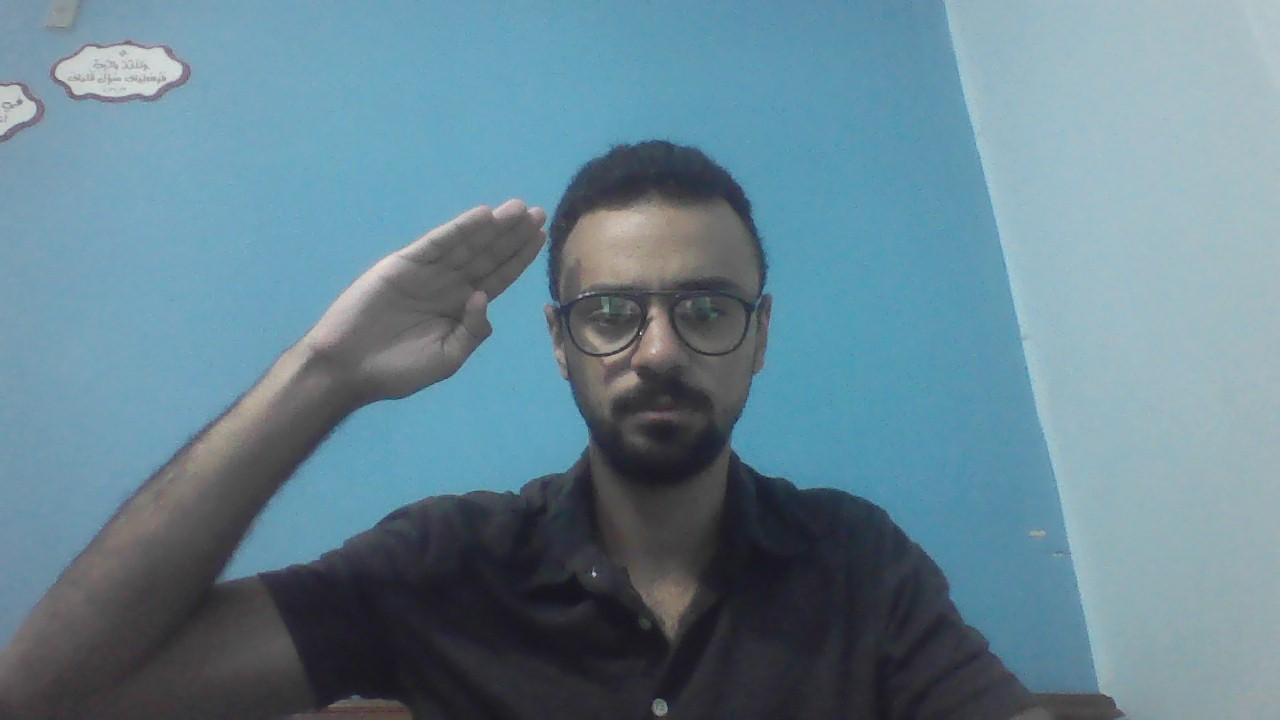hello: (11, 203, 556, 717)
